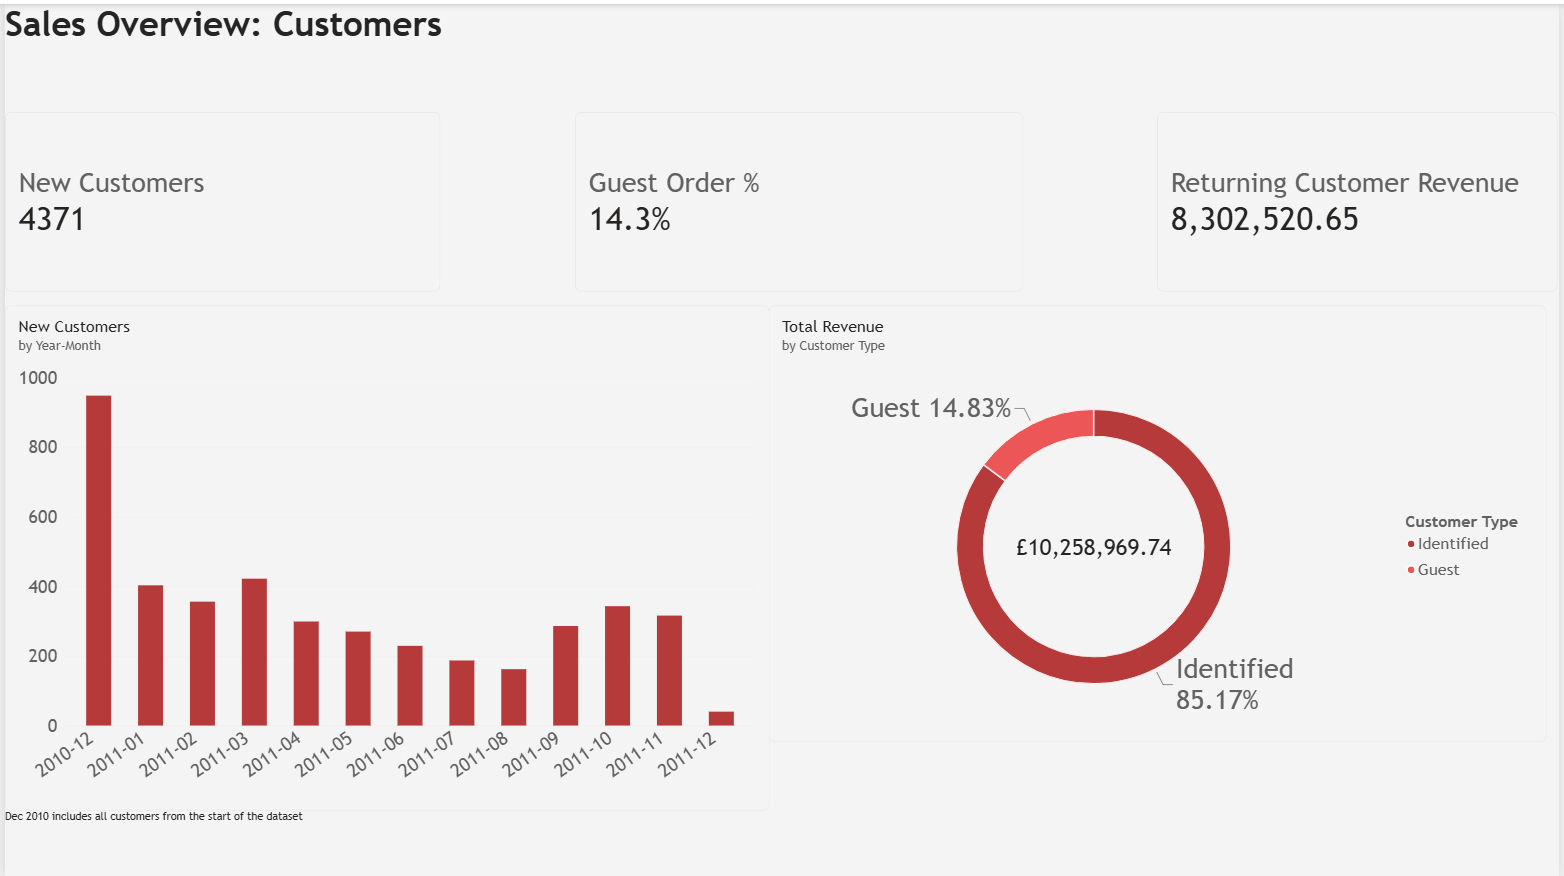

What the dashboard file says about the page in this screenshot:
{"tool":"powerbi","page":{"name":"Customers","canvas":[1920,1080],"ordinal":2},"visuals":[{"type":"cardVisual","fields":{"Data":["_Measures.New Customers"]},"box":[0,134,538.3,222.6],"z":0},{"type":"cardVisual","fields":{"Data":["_Measures.Guest Order %"]},"box":[704.1,134,554.2,222.6],"z":1000},{"type":"cardVisual","fields":{"Data":["_Measures.Returning Customer Revenue"]},"box":[1424.1,134,495.1,222.6],"z":2000},{"type":"donutChart","fields":{"Category":["fact_sales.Customer Type"],"Y":["_Measures.Total Revenue"]},"box":[944.3,373.3,961.2,539.3],"z":3000},{"type":"clusteredColumnChart","fields":{"Category":["dim_date.Year-Month"],"Y":["_Measures.New Customers"]},"box":[0,372.6,944.8,623.7],"z":4000},{"type":"textbox","box":[0,0,722.5,133.8],"z":5000},{"type":"textbox","box":[0,996.2,944.8,84.4],"z":6000}]}

Visuals, with their boxes in screenshot pixels (x1, y1, x2, y2), scaled from the page's 1920x1080 canvas onto the 1564x876 screenshot:
cardVisual - _Measures.New Customers: (0,109,438,289)
cardVisual - _Measures.Guest Order %: (574,109,1025,289)
cardVisual - _Measures.Returning Customer Revenue: (1160,109,1563,289)
donutChart - fact_sales.Customer Type x _Measures.Total Revenue: (769,303,1552,740)
clusteredColumnChart - dim_date.Year-Month x _Measures.New Customers: (0,302,770,808)
textbox: (0,0,589,109)
textbox: (0,808,770,875)
